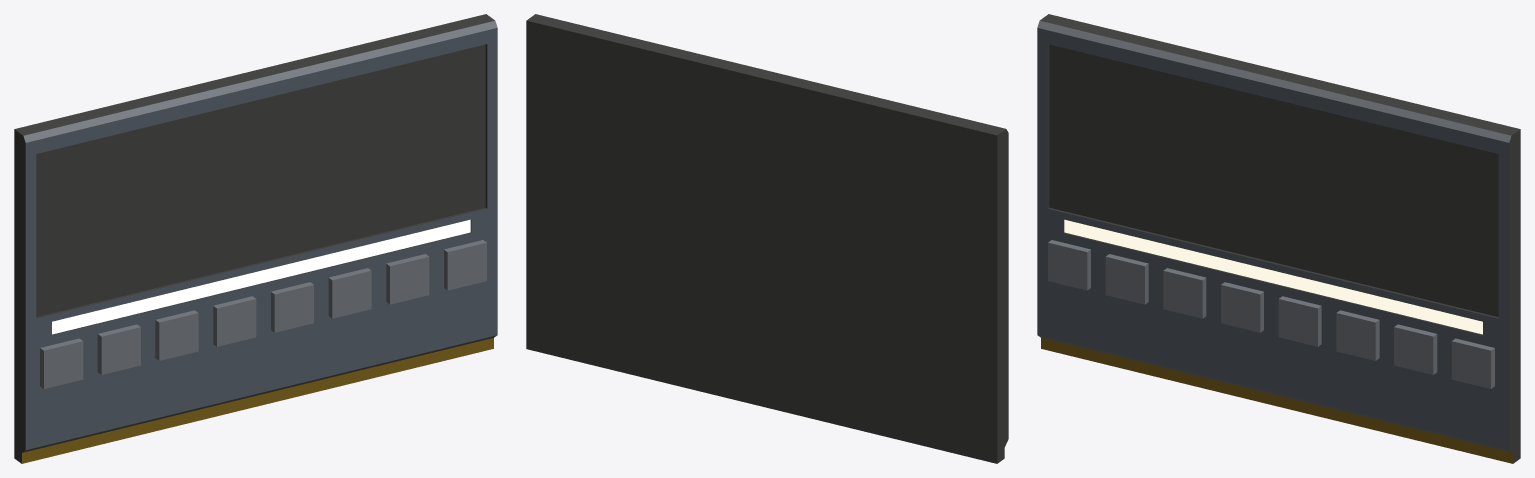
File: mimic_board.glb
3 renders of one model, left to right at view 1: azimuth 30°, elevation 25°; view 2: azimuth 150°, elevation 25°; view 3: azimuth 330°, elevation 25°, orthographic.
Visible parts, largest first — view 1: mimic_board; view 2: mimic_board; view 3: mimic_board.
Boxes of the visible parts, box(x1,y1,x2,y2) form: mimic_board: box(14, 14, 497, 463); mimic_board: box(526, 14, 1008, 463); mimic_board: box(1037, 14, 1520, 463).
Bounding box in the file's own units: 3.6 × 2.4 × 0.2.
